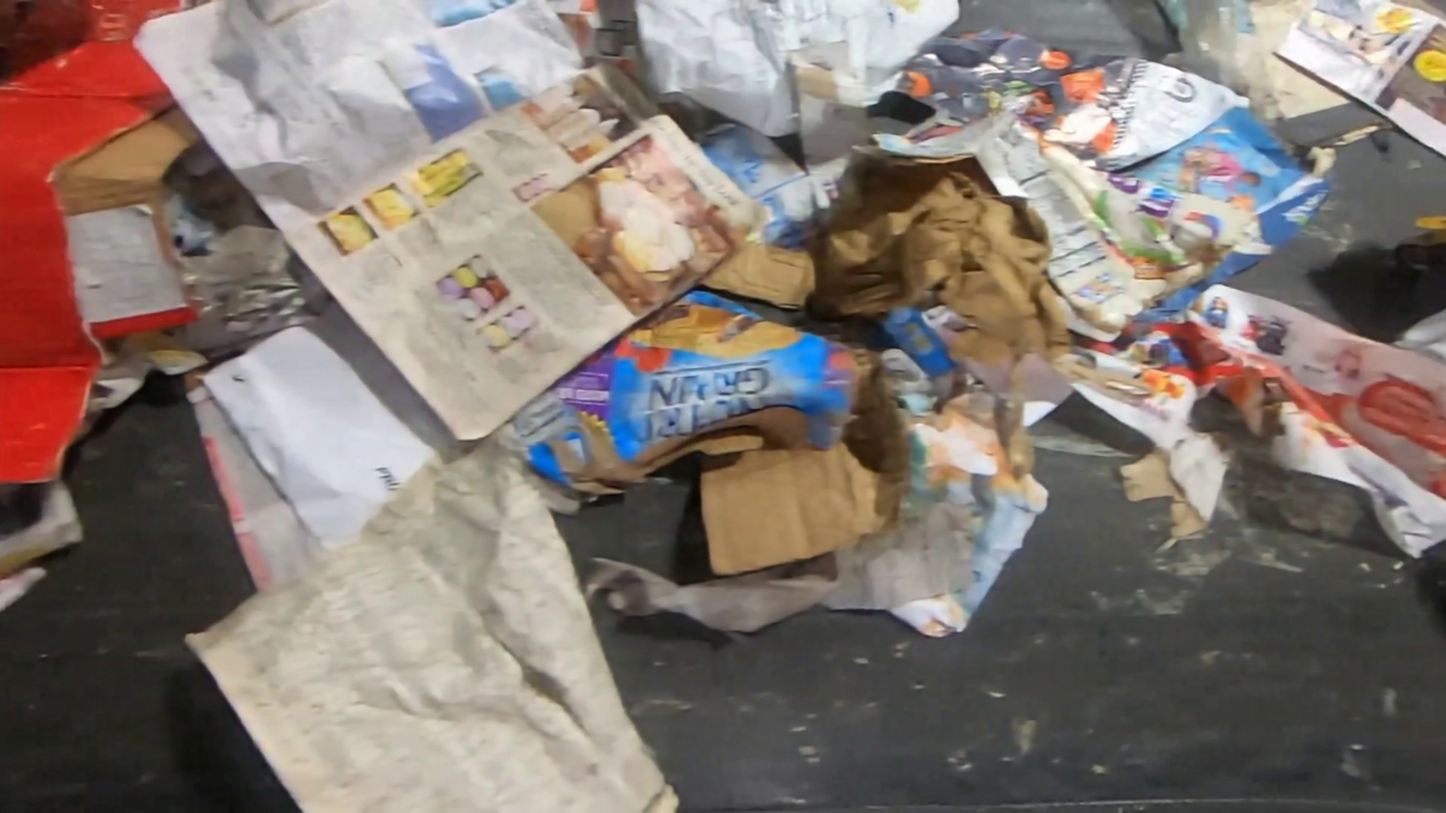cardboard: (490, 288, 916, 574), (0, 0, 223, 487), (693, 163, 1071, 359)
plastic: (1150, 4, 1283, 145)
